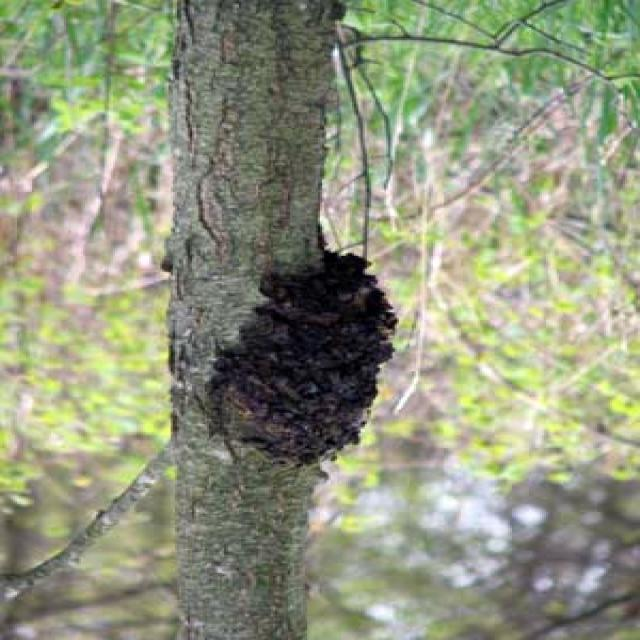Black_knot: (203, 247, 399, 468)
